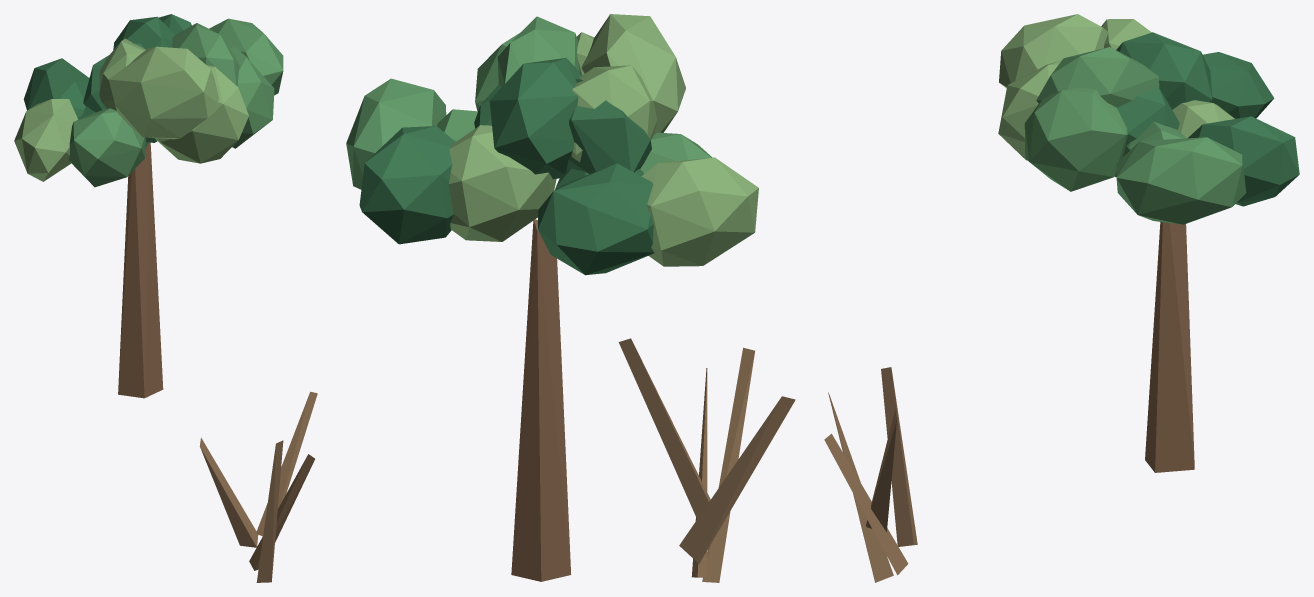
File: tree_broadleaf_a.glb
3 views of the same model, side by side, from view 1: azimuth 30°, elevation 25°; view 2: azimuth 150°, elevation 25°; view 3: azimuth 270°, elevation 25° (orthographic). The views are drawn at different scales.
Visible parts, largest first — view 1: Tree_Broadleaf_A; view 2: Tree_Broadleaf_A; view 3: Tree_Broadleaf_A.
Boxes of the visible parts, left/top/right/bottom form: Tree_Broadleaf_A: left=14, top=14, right=317, bottom=582; Tree_Broadleaf_A: left=346, top=14, right=795, bottom=582; Tree_Broadleaf_A: left=824, top=14, right=1299, bottom=582.
Bounding box in the file's own units: 11.91 × 20.15 × 15.7.
